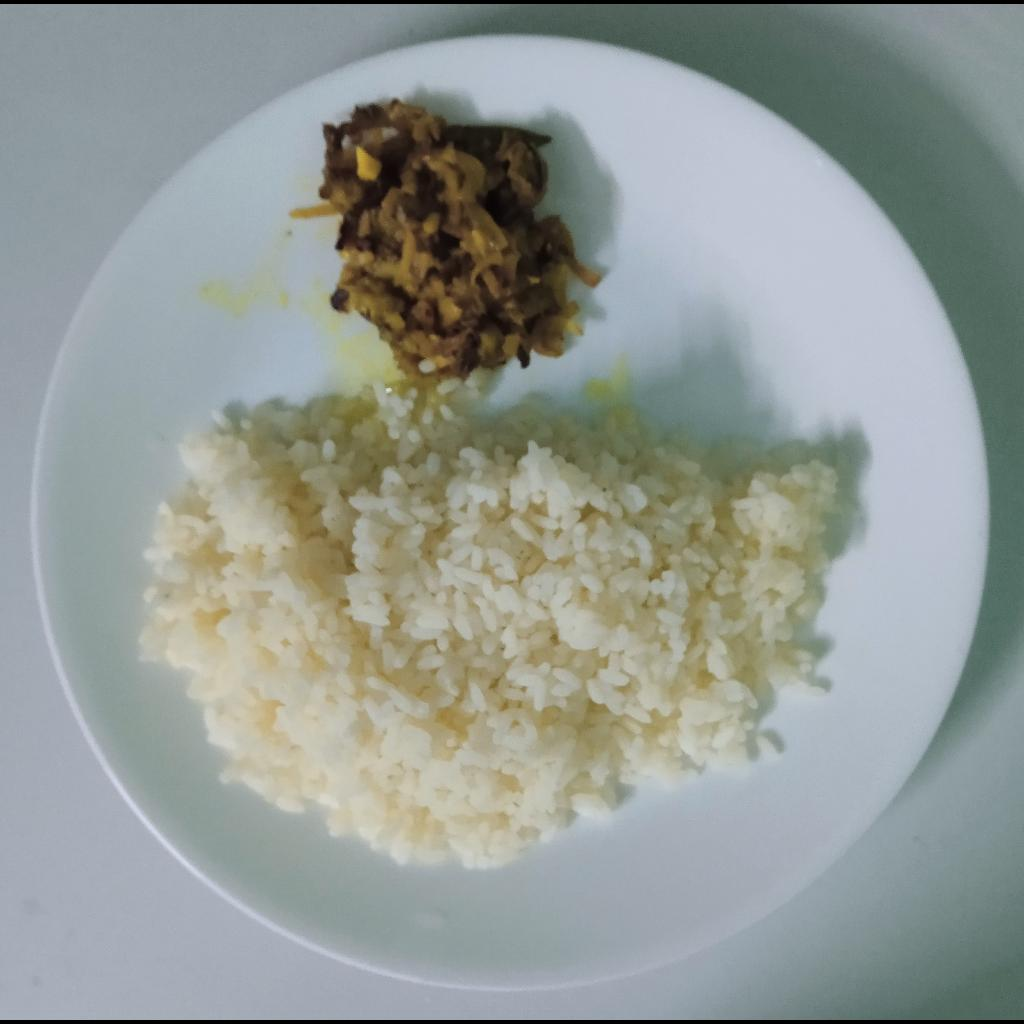dundol: (288, 103, 600, 380)
rice: (134, 372, 839, 868)
